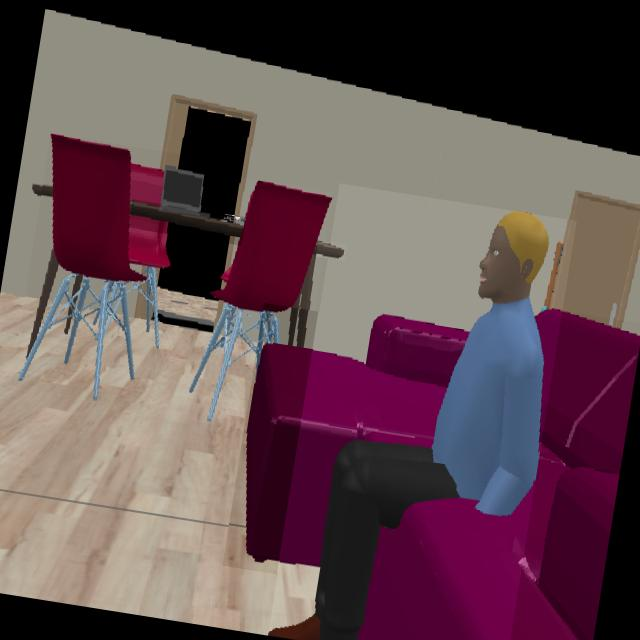chair: (18, 135, 171, 400), (208, 181, 331, 424)
laptop: (161, 166, 205, 215)
person: (269, 212, 550, 640)
sofa: (359, 310, 640, 640), (241, 322, 464, 575)
table: (130, 203, 245, 244), (316, 241, 345, 261)
